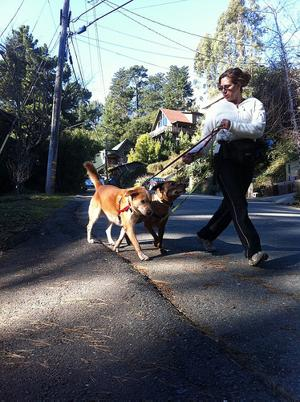person: (183, 68, 270, 269)
